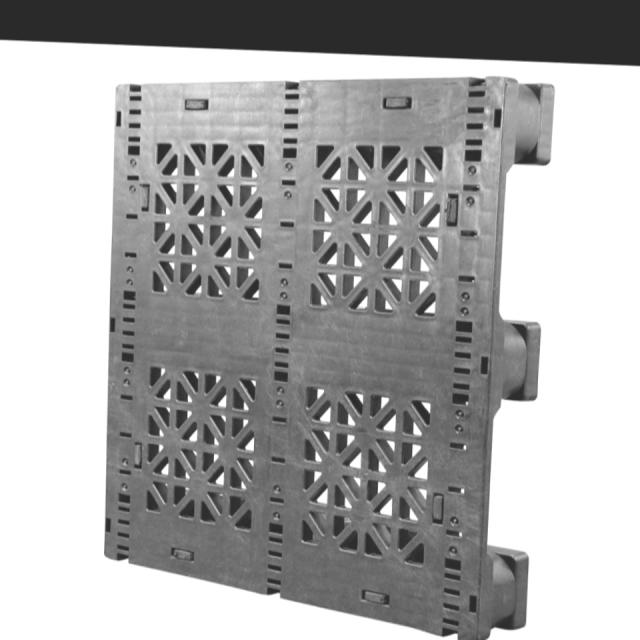non-igps: (91, 69, 561, 640)
